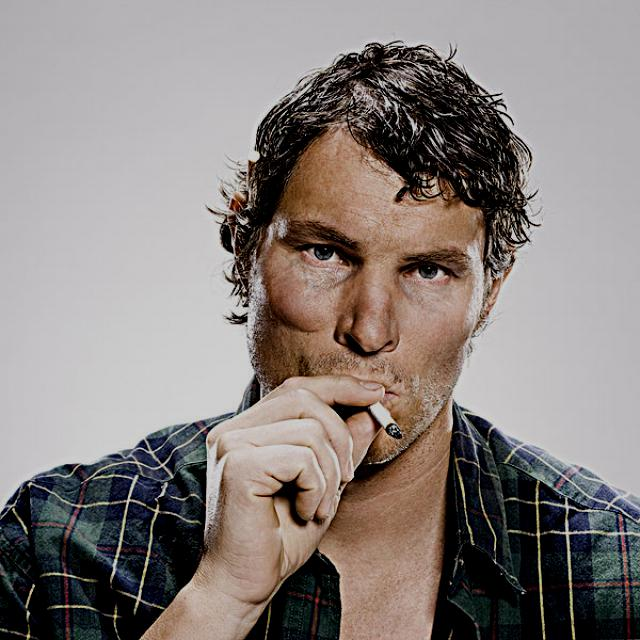smoke: (357, 387, 411, 443)
